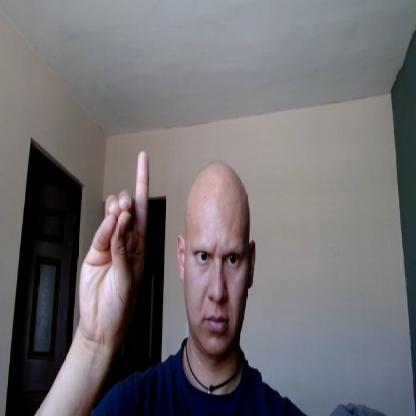D: (78, 150, 150, 336)
